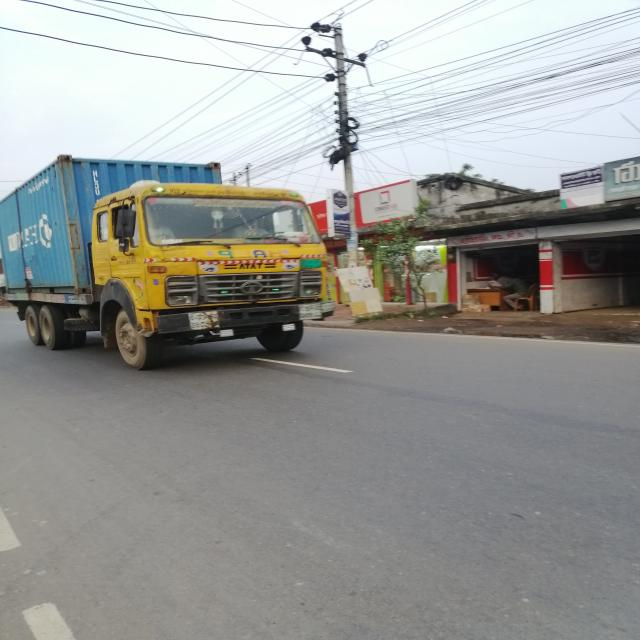Truck: (1, 136, 380, 396)
